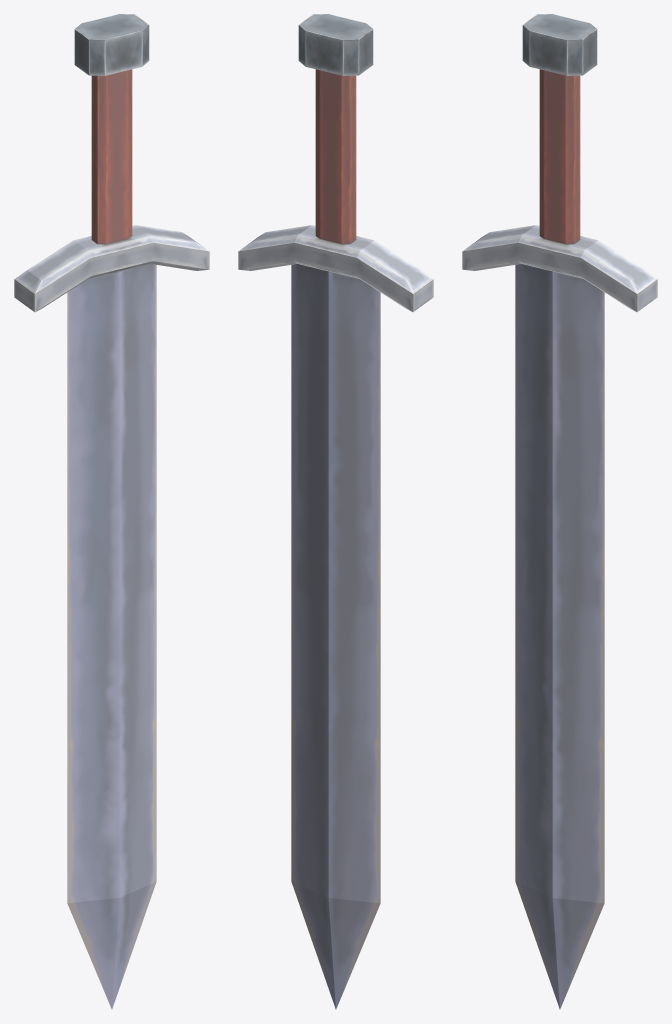
Rendered from Sword.fbx.
3 renders of one model, left to right at view 1: azimuth 30°, elevation 25°; view 2: azimuth 150°, elevation 25°; view 3: azimuth 330°, elevation 25°, orthographic.
Parts seen in each view (by area): view 1: Cube.005; view 2: Cube.005; view 3: Cube.005.
Boxes of the visible parts, <box> form: Cube.005: <box>14,14,209,1009</box>; Cube.005: <box>238,14,433,1009</box>; Cube.005: <box>462,14,657,1009</box>.
Size of the model in its own units: 82.26 by 442 by 18.99.
Materials: 1 (1 with a texture image).
